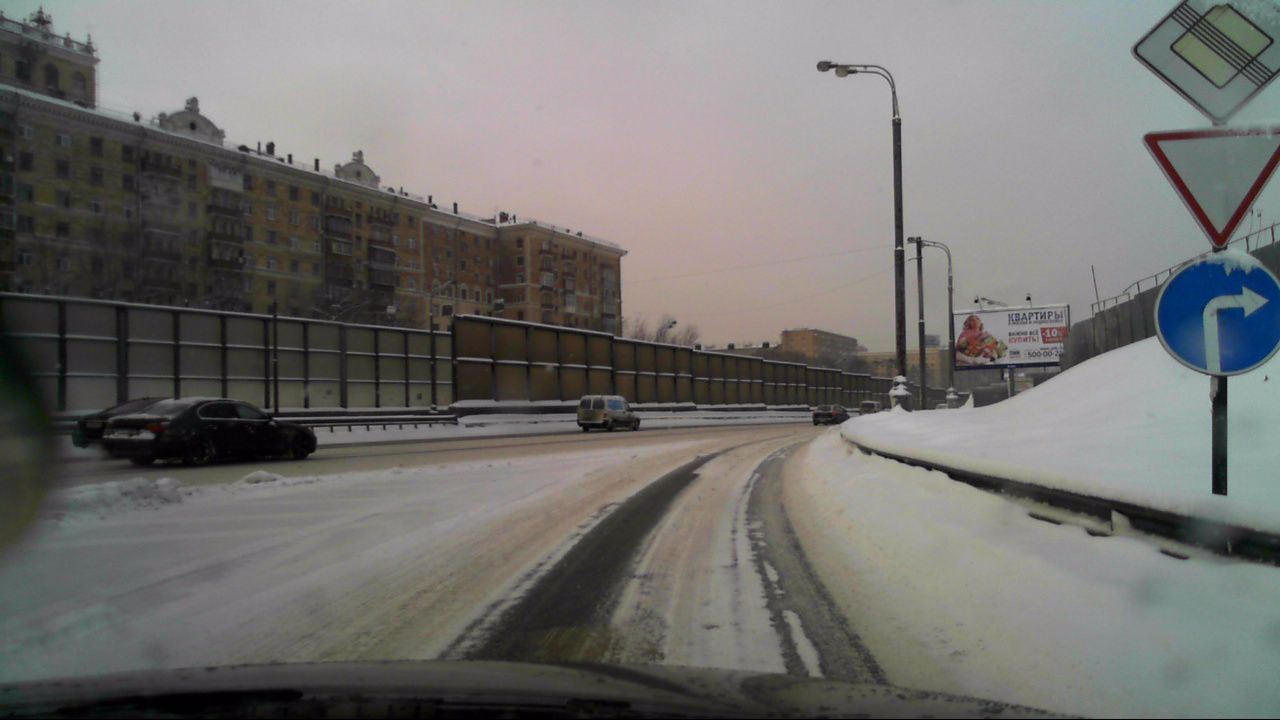main road: (1133, 0, 1279, 125)
